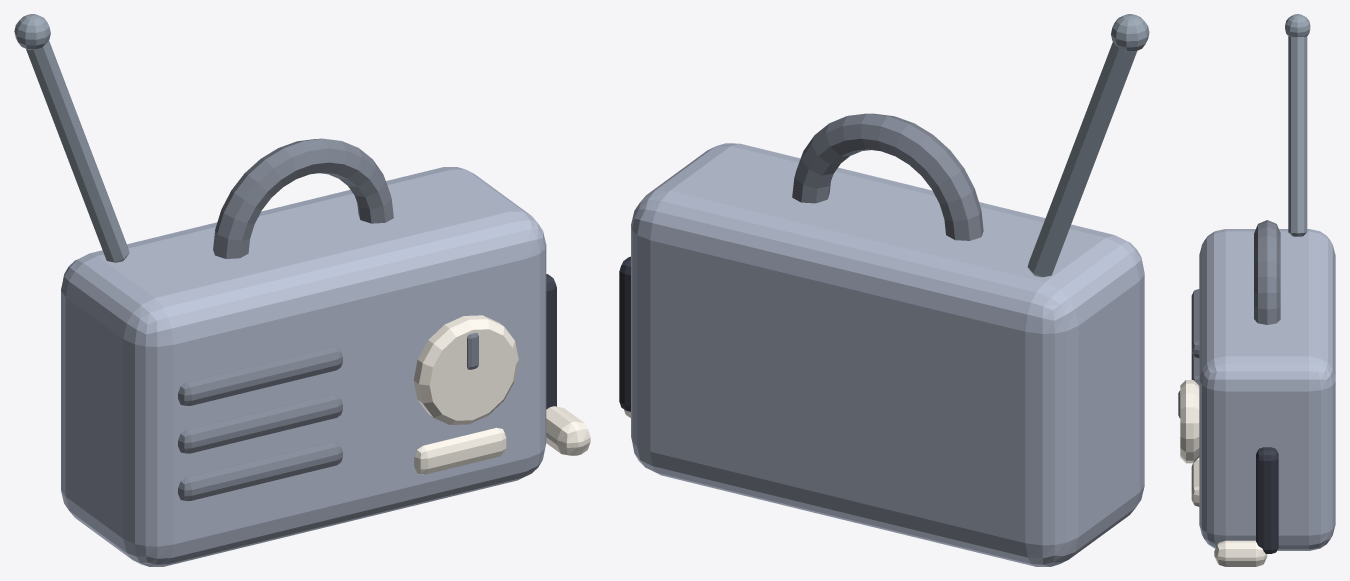
File: radio.glb
The picture shows the model from 3 angles, left to right: view 1: azimuth 30°, elevation 25°; view 2: azimuth 150°, elevation 25°; view 3: azimuth 270°, elevation 25°; orthographic projection. The views are drawn at different scales.
Parts seen in each view (by area): view 1: radio; view 2: radio; view 3: radio.
Boxes of the visible parts, x1=… form: radio: x1=14, y1=14, x2=590, y2=566; radio: x1=619, y1=14, x2=1149, y2=566; radio: x1=1178, y1=14, x2=1335, y2=566.
Bounding box in the file's own units: 1.15 × 1.12 × 0.415.
